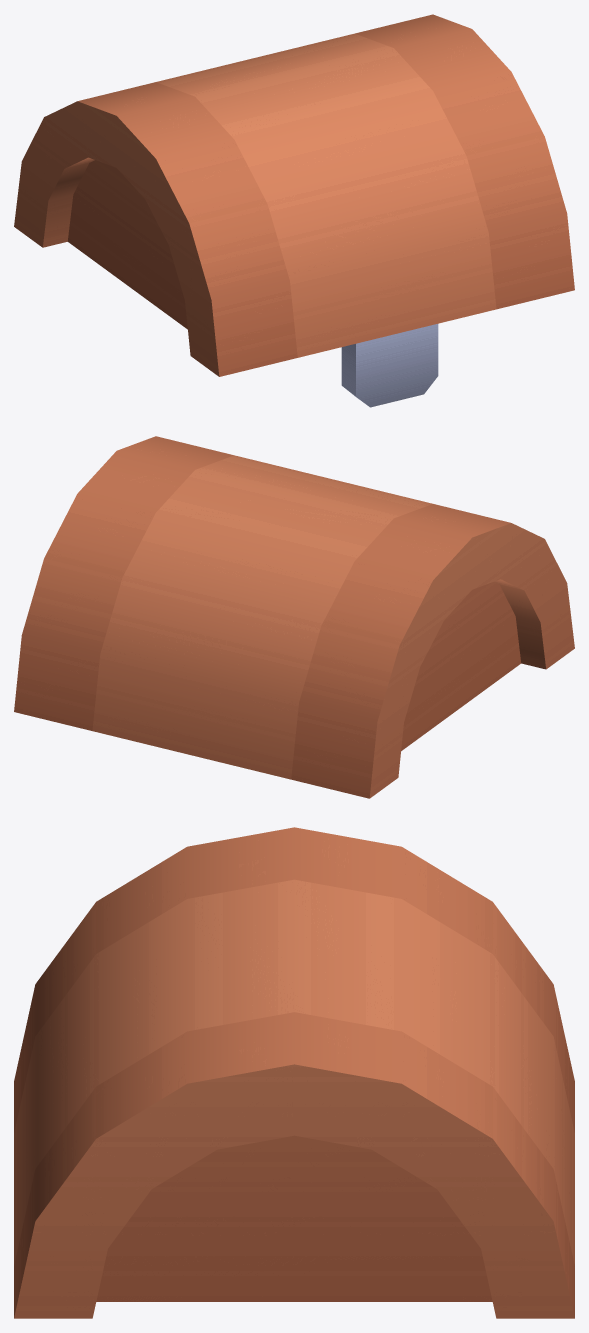
Rendered from lid_lev3.glb.
The picture shows the model from 3 angles, top to bottom: view 1: azimuth 30°, elevation 25°; view 2: azimuth 150°, elevation 25°; view 3: azimuth 270°, elevation 25°; orthographic projection. The views are drawn at different scales.
Parts seen in each view (by area): view 1: lid_lev3; view 2: lid_lev3; view 3: lid_lev3.
Boxes of the visible parts, <box> form: lid_lev3: <box>14,14,574,407</box>; lid_lev3: <box>14,436,574,798</box>; lid_lev3: <box>14,827,574,1318</box>.
Size of the model in its own units: 2.13 by 1.45 by 2.13.
1 material, 1 textured.
